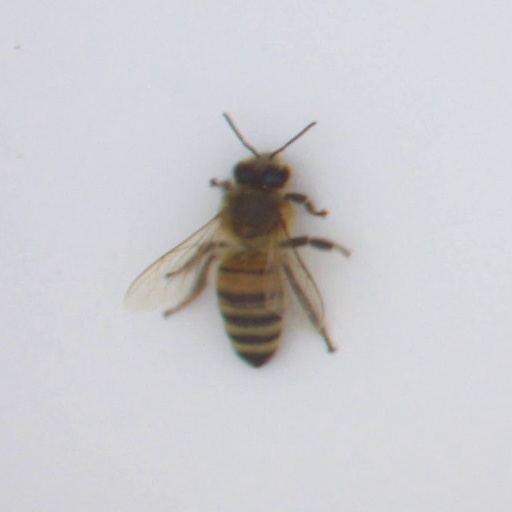Bee: (231, 157, 287, 363)
Thorax: (215, 186, 293, 250)
